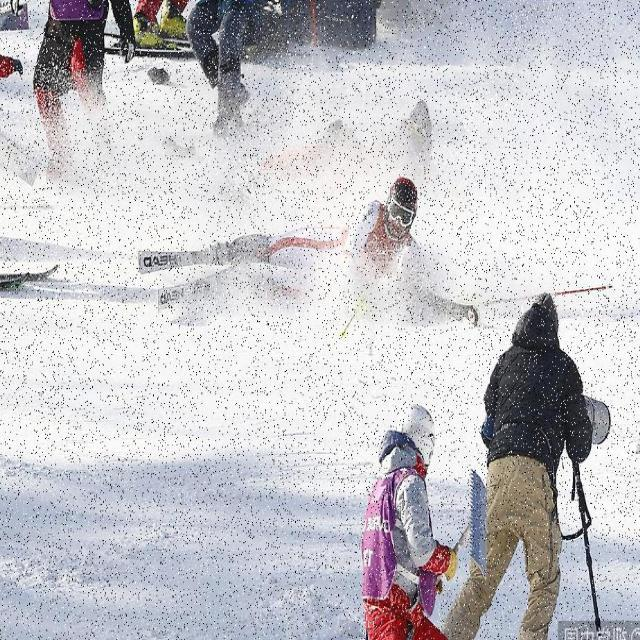fall: (190, 188, 460, 339)
